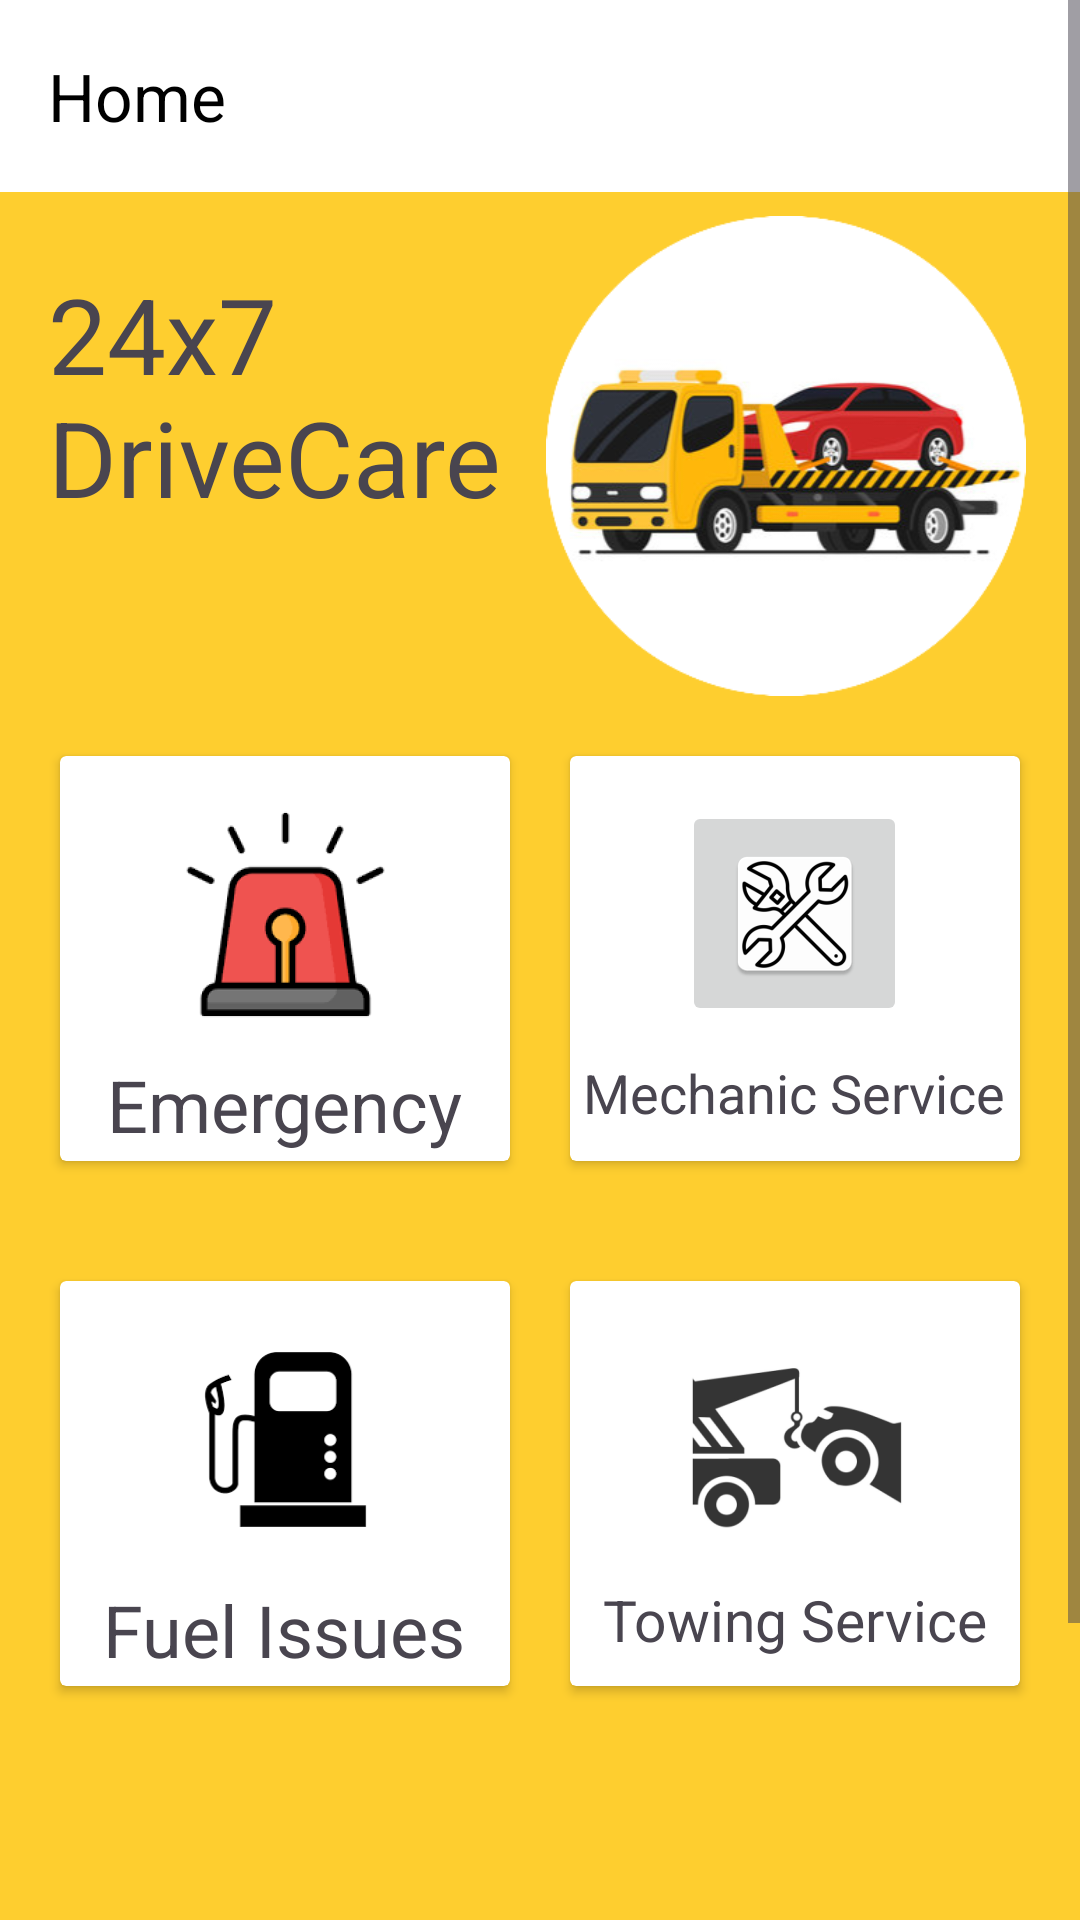

Screen size 1080*1920. Icon name, then its box in pixels as (x1,y1,x2,y2):
petrol: (205,1352,366,1527)
siren: (186,812,385,1017)
